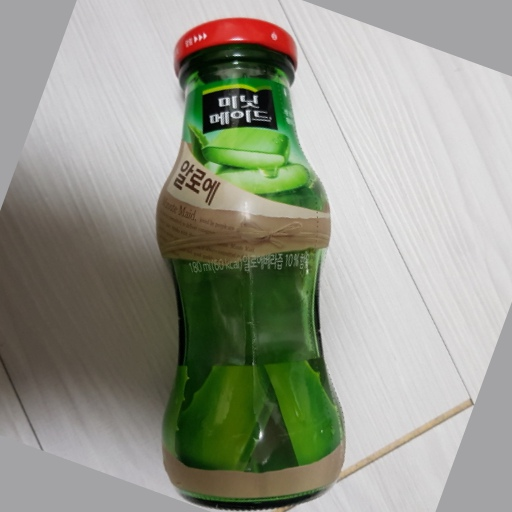Glass_4: (151, 17, 349, 510)
